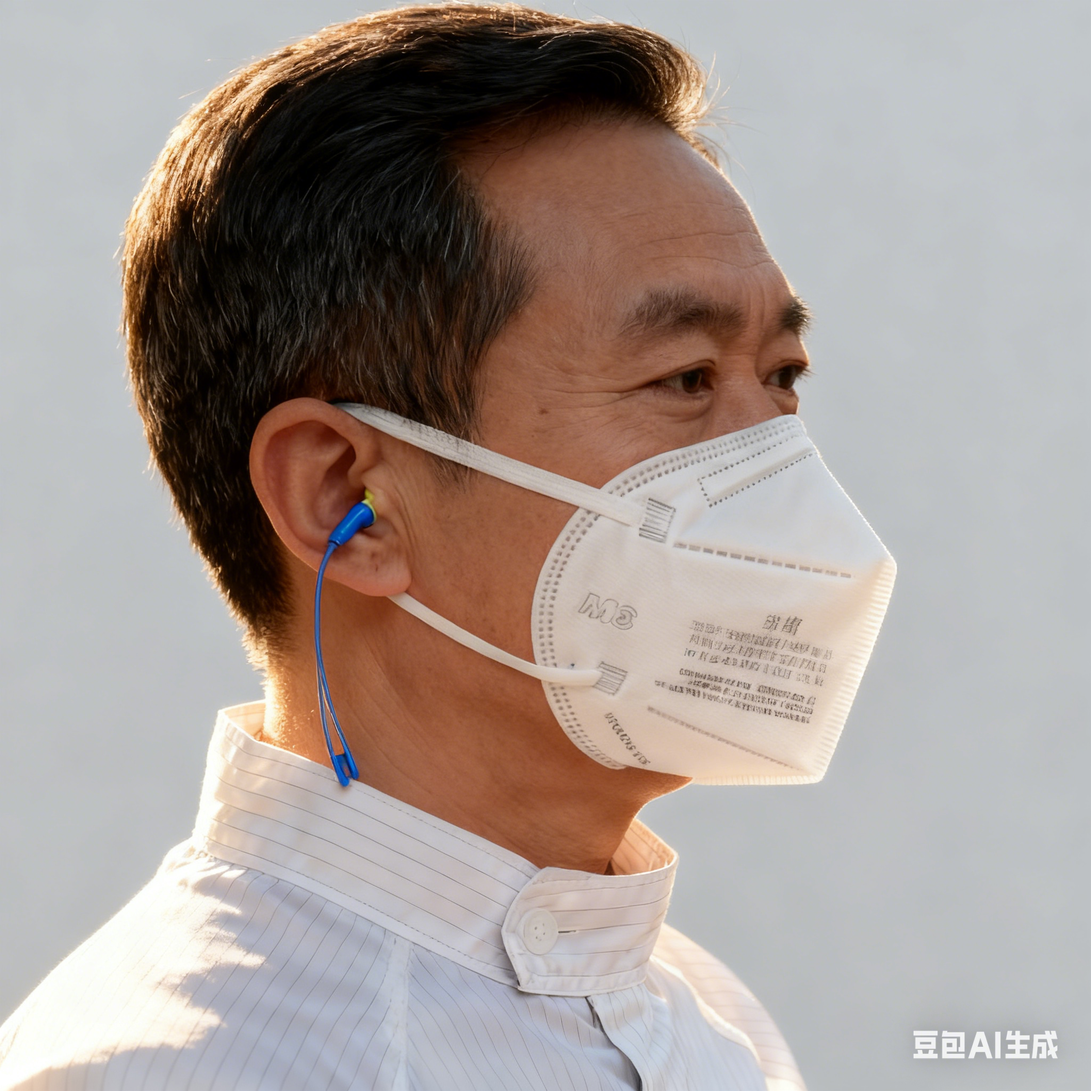MASK: (537, 415, 895, 785)
